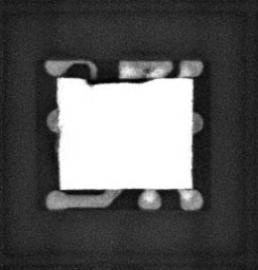DIE_BROKEN: (78, 75, 154, 86)
